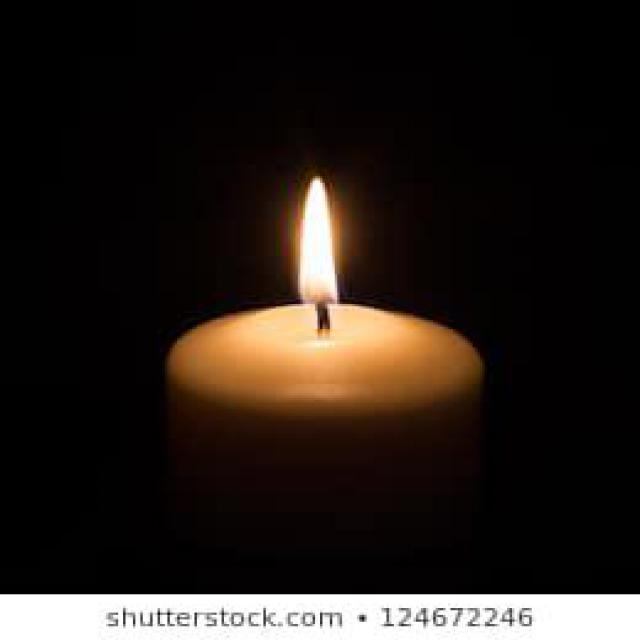Fire: (298, 177, 340, 314)
